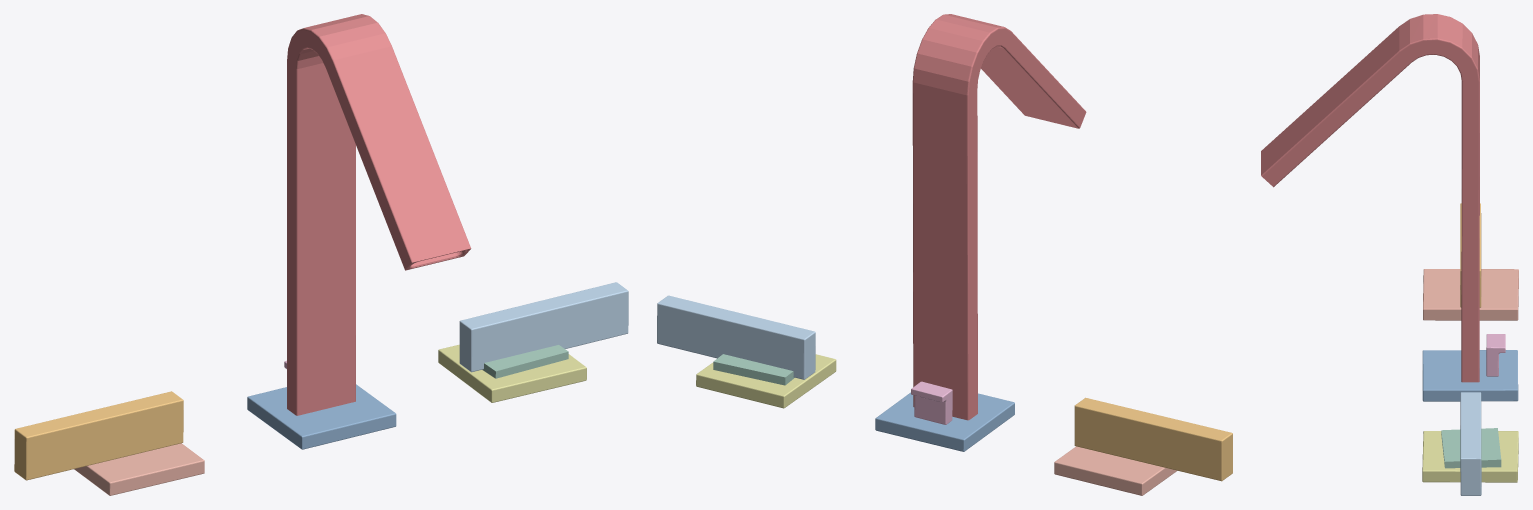
The model's file is 1401_assembly.glb.
3 renders of one model, left to right at view 1: azimuth 30°, elevation 25°; view 2: azimuth 150°, elevation 25°; view 3: azimuth 270°, elevation 25°, orthographic. The views are drawn at different scales.
Parts seen in each view (by area): view 1: part_00, part_02, part_06, part_07, part_01, part_04, part_05; view 2: part_00, part_02, part_06, part_07, part_01, part_04, part_03, part_05; view 3: part_00, part_01, part_07, part_04, part_06, part_05, part_03, part_02.
Boxes of the visible parts, <box> form: part_00: <box>287,14,471,415</box>; part_02: <box>14,391,183,480</box>; part_06: <box>459,282,628,372</box>; part_07: <box>247,384,396,449</box>; part_01: <box>74,443,204,495</box>; part_04: <box>438,344,586,402</box>; part_05: <box>482,345,568,378</box>; part_00: <box>912,14,1086,420</box>; part_02: <box>1074,397,1232,481</box>; part_06: <box>657,295,815,379</box>; part_07: <box>875,392,1014,451</box>; part_01: <box>1054,446,1177,495</box>; part_04: <box>696,354,836,408</box>; part_03: <box>911,381,952,424</box>; part_05: <box>713,354,794,385</box>; part_00: <box>1261,14,1479,382</box>; part_01: <box>1423,269,1518,320</box>; part_07: <box>1422,350,1518,401</box>; part_04: <box>1422,431,1518,482</box>; part_06: <box>1460,392,1481,495</box>; part_05: <box>1441,428,1501,468</box>; part_03: <box>1486,334,1505,376</box>; part_02: <box>1460,203,1481,307</box>.
Size of the model in its own units: 1.85 by 1.2 by 0.7888.
